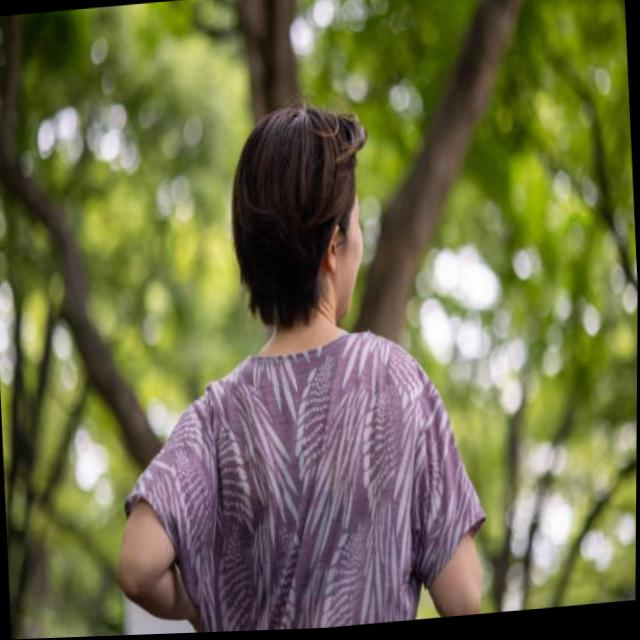no helmet: (217, 102, 374, 351)
